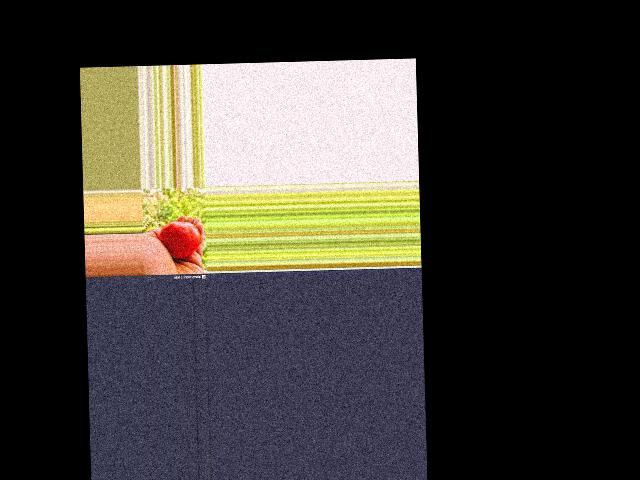tomato: (158, 221, 200, 258)
